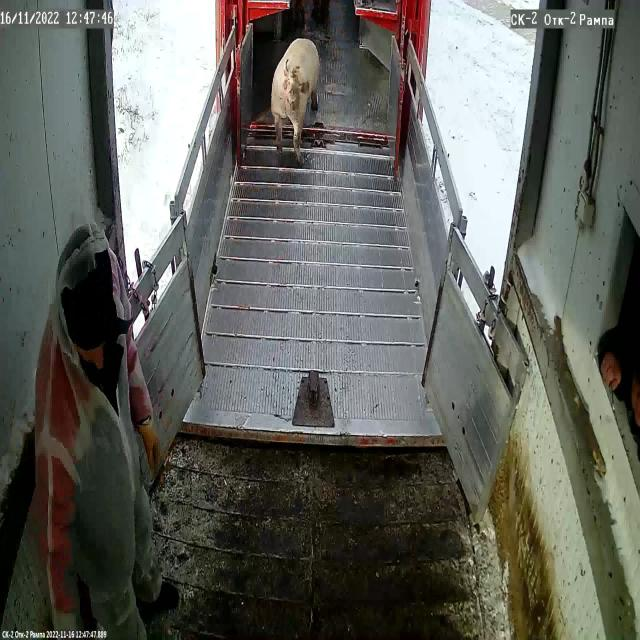pig: (271, 39, 320, 167)
